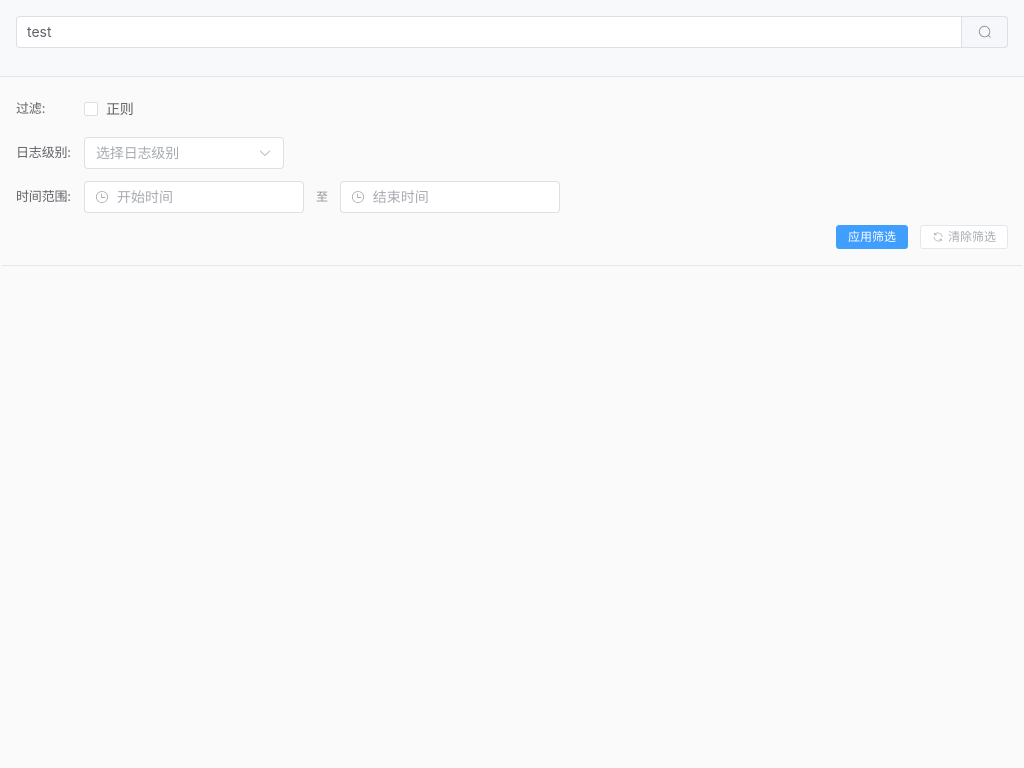
Test: SearchPanel › Pagination › should show pagination when there are multiple pages
The width and height of the screenshot is (1024, 768).
Click the button with test id "search-button": (985, 32) [962,16,1008,48]
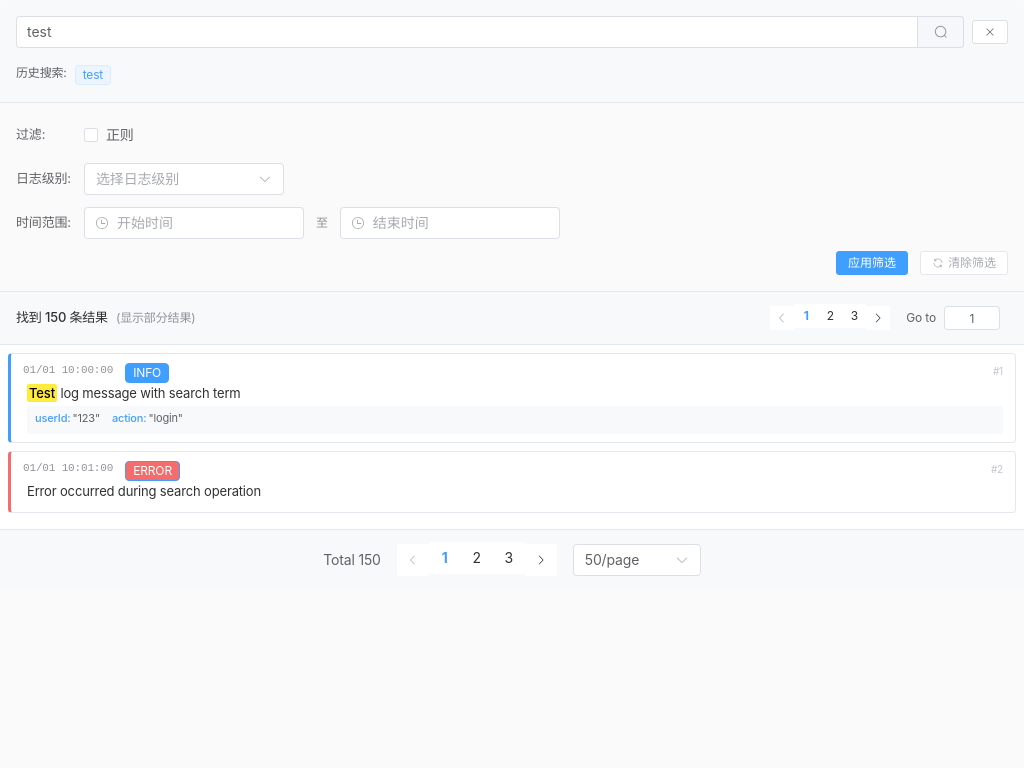
Now the element showing "1 2 3 Go to" is shown, box [770,304,1008,332]
